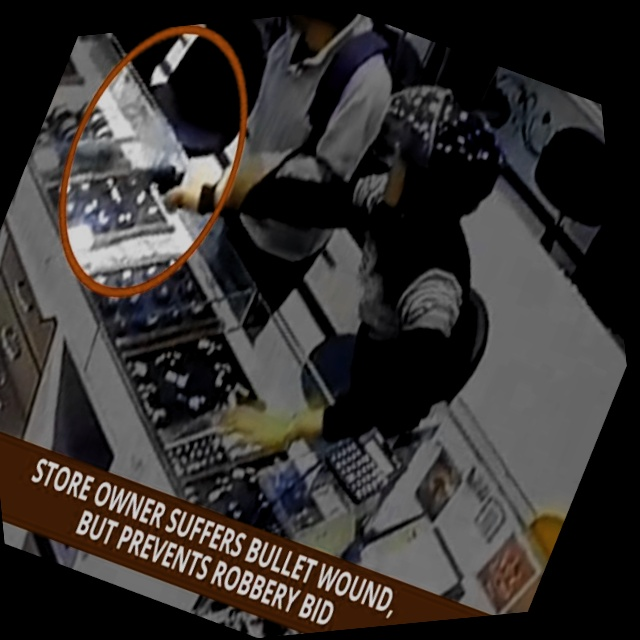gun: (126, 139, 201, 208)
